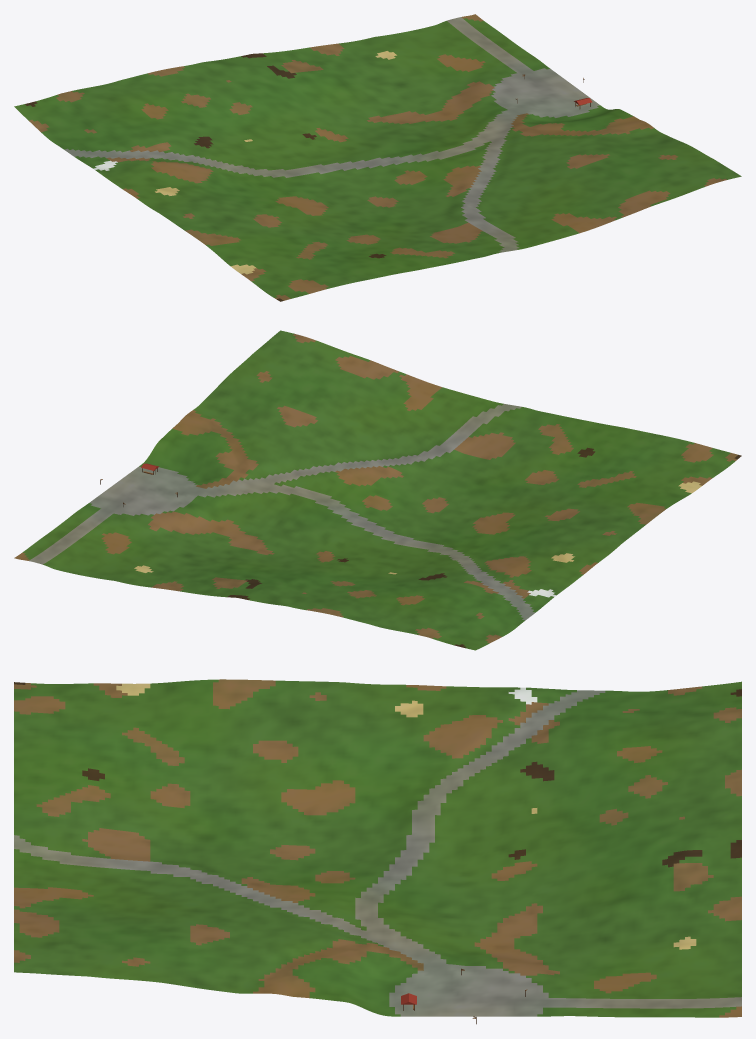
Rendered from chunk_3_4.glb.
3 views of the same model, one above another, from view 1: azimuth 30°, elevation 25°; view 2: azimuth 150°, elevation 25°; view 3: azimuth 270°, elevation 25° (orthographic). The views are drawn at different scales.
Visible parts, largest first — view 1: Surface_Grass, Surface_Dirt, Surface_Gravel, Surface_Mud, Surface_Sand; view 2: Surface_Grass, Surface_Dirt, Surface_Gravel, Surface_Mud; view 3: Surface_Grass, Surface_Dirt, Surface_Gravel, Surface_Mud, Surface_Sand.
Boxes of the visible parts, x1,y1,x2,y2 form: Surface_Grass: [14, 18, 741, 298]; Surface_Dirt: [29, 14, 726, 300]; Surface_Gravel: [64, 17, 599, 252]; Surface_Mud: [25, 53, 386, 301]; Surface_Sand: [155, 51, 396, 274]; Surface_Grass: [22, 330, 735, 650]; Surface_Dirt: [14, 334, 737, 643]; Surface_Gravel: [29, 404, 535, 620]; Surface_Mud: [227, 447, 741, 647]; Surface_Grass: [14, 679, 741, 1017]; Surface_Dirt: [14, 679, 741, 1017]; Surface_Gravel: [14, 690, 741, 1016]; Surface_Mud: [14, 682, 741, 867]; Surface_Sand: [116, 683, 696, 949].
Bounding box in the file's own units: 262 × 21.53 × 256.
